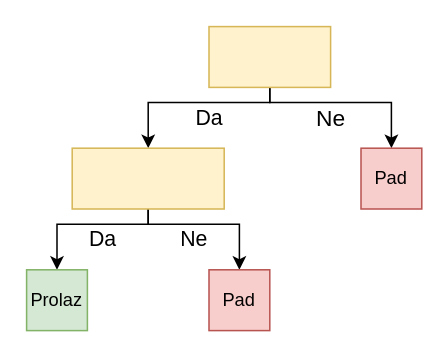
Image size: 448x357. Some labels were removed from this diagram. Each missing label, with the box of its shape:
Učenje: (207, 25, 331, 87)
Zanimljiv kolegij: (71, 147, 224, 209)
